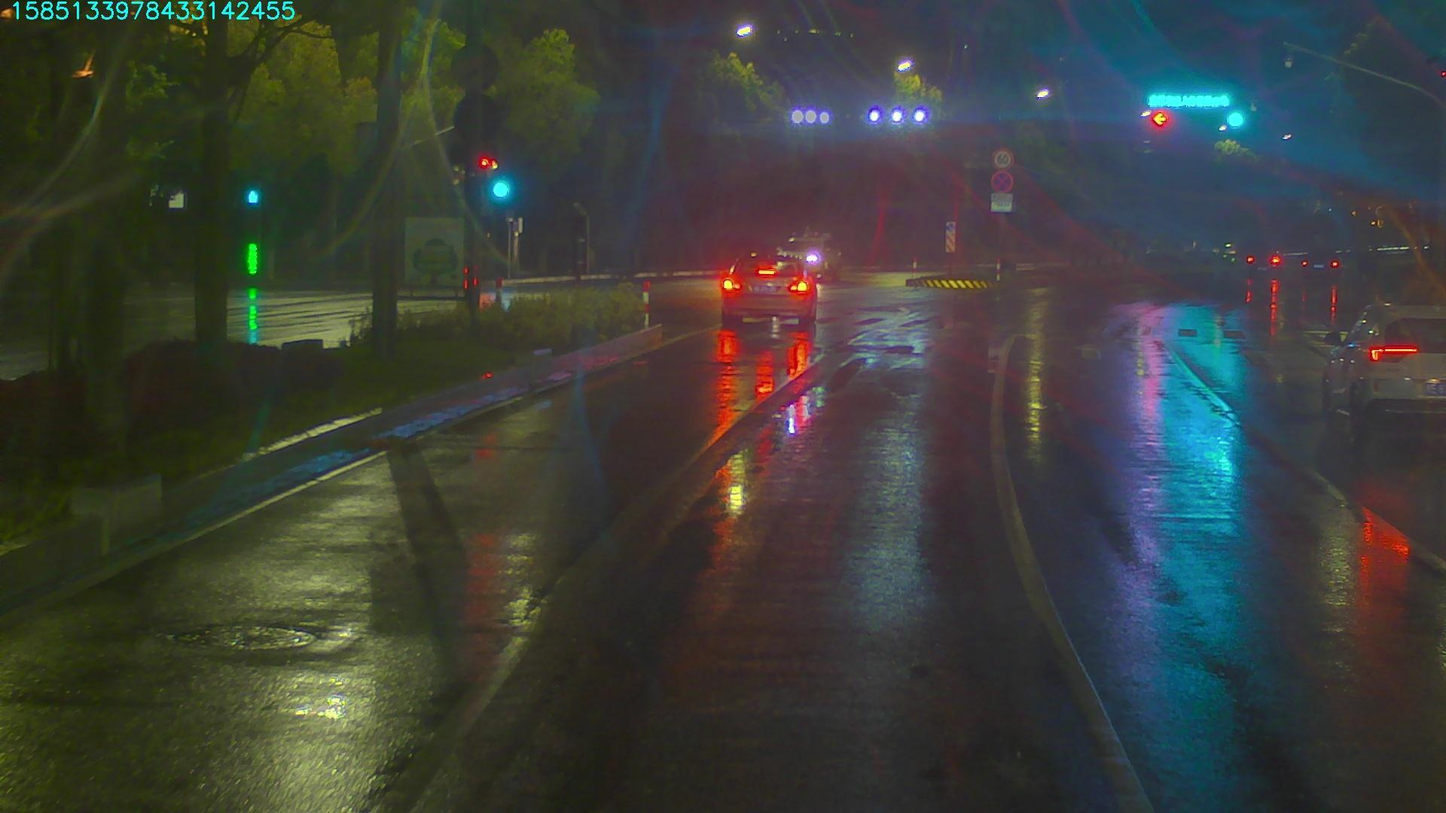green: (1223, 113, 1252, 134)
red: (1152, 111, 1172, 129)
wait_on: (1142, 91, 1237, 109)
